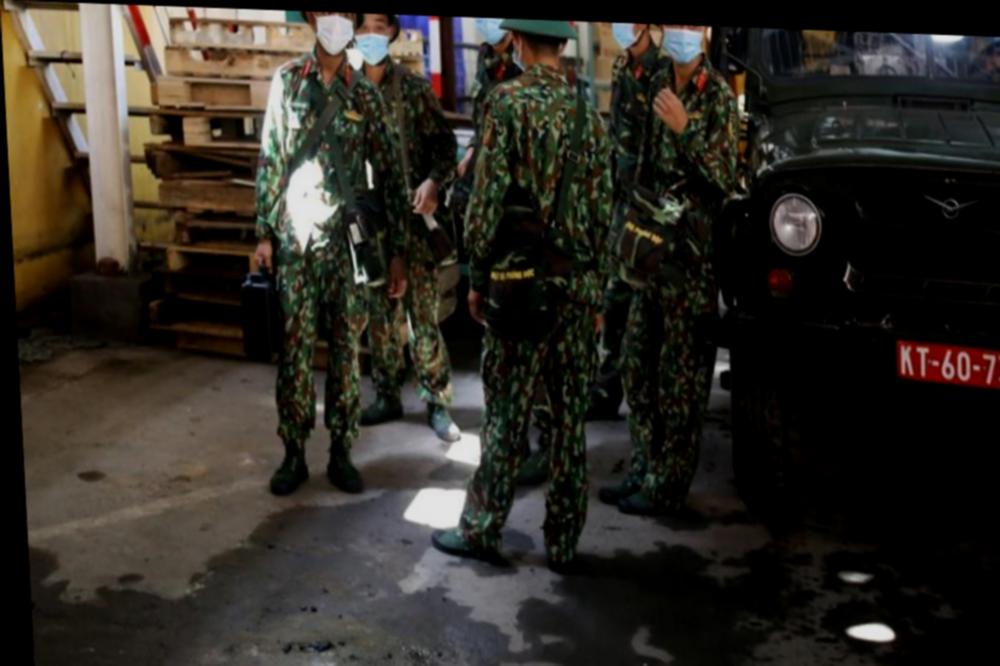License_Plate: (890, 334, 1000, 392)
